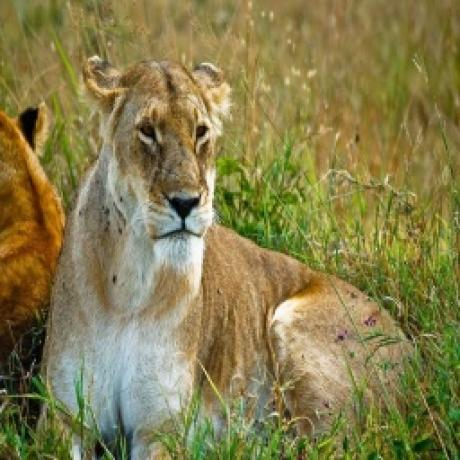Lion: (37, 47, 428, 429), (0, 99, 66, 369)
